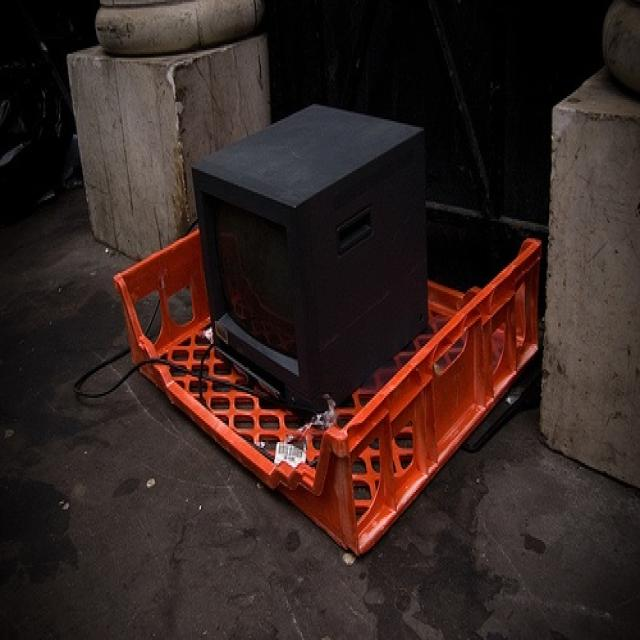tvmonitor: (191, 102, 430, 417)
